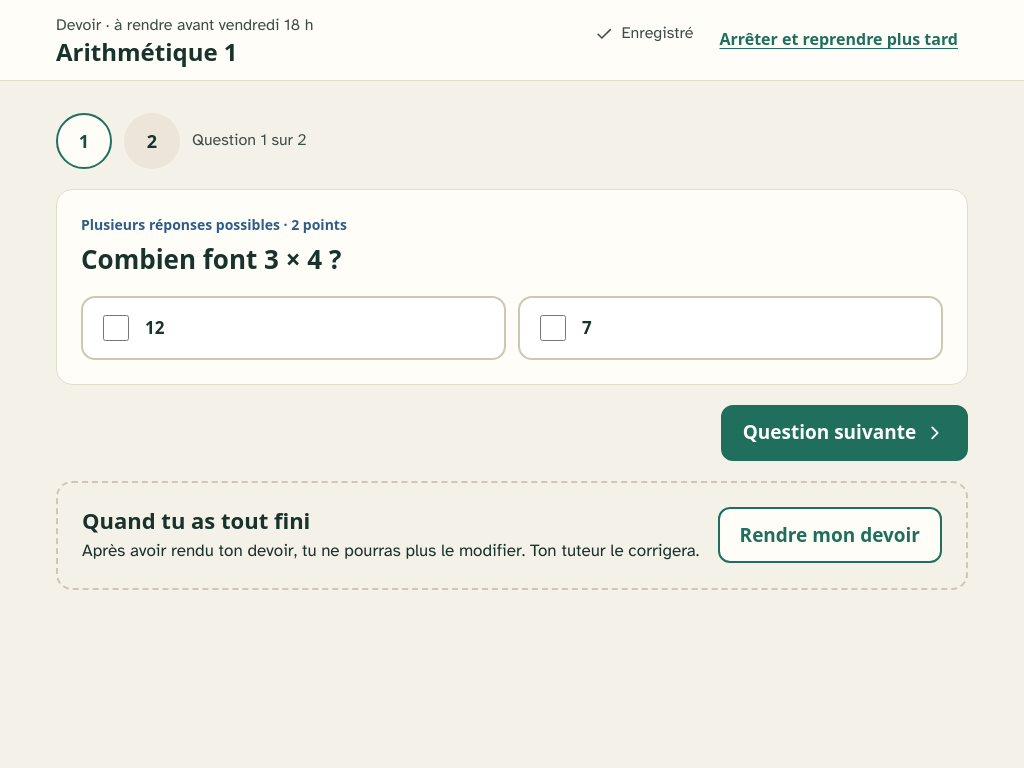
Copie de l'élève (R5) › mode focus : une question à la fois, puis la copie rendue avec les identifiants opaques reçus
Expected: the heading "Combien font 3 × 4 ?" is shown, left=81, top=241, right=341, bottom=277
Expected: the text "Longueur ?" is not shown
Step 1. Click the checkbox labelled "12" → point(116, 328), box left=103, top=315, right=129, bottom=341
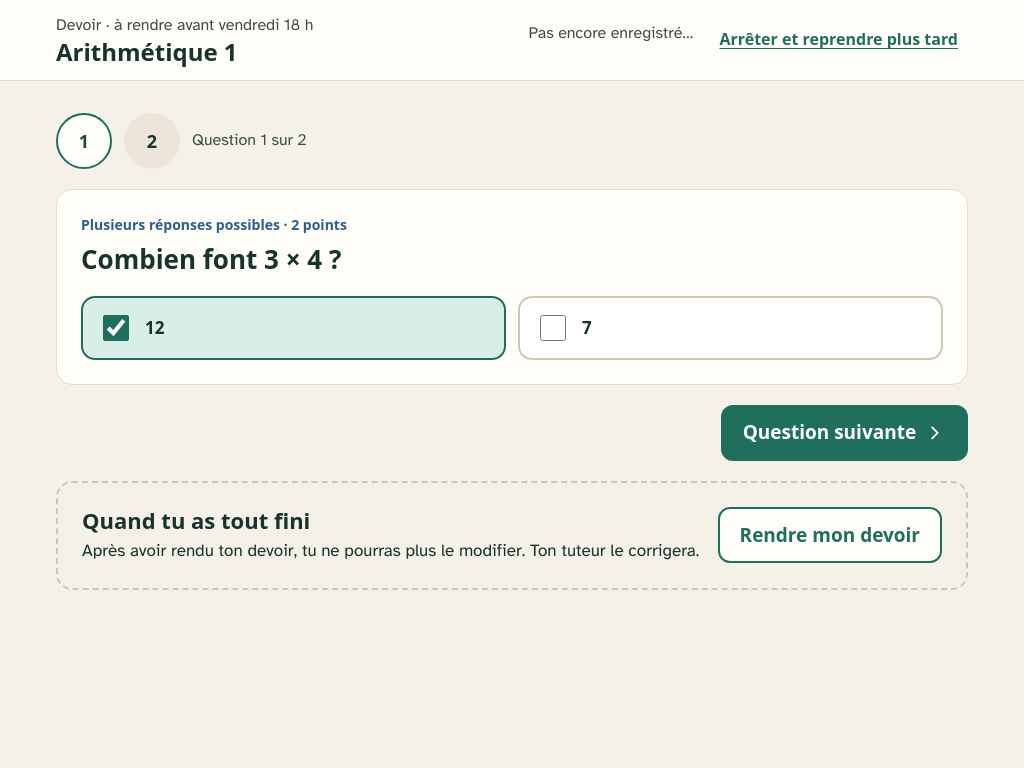
Expected: the button named "Question 1, répondue" is shown, left=56, top=113, right=112, bottom=169
Step 2. Click the button "Question suivante" → point(844, 433), box left=721, top=405, right=968, bottom=461
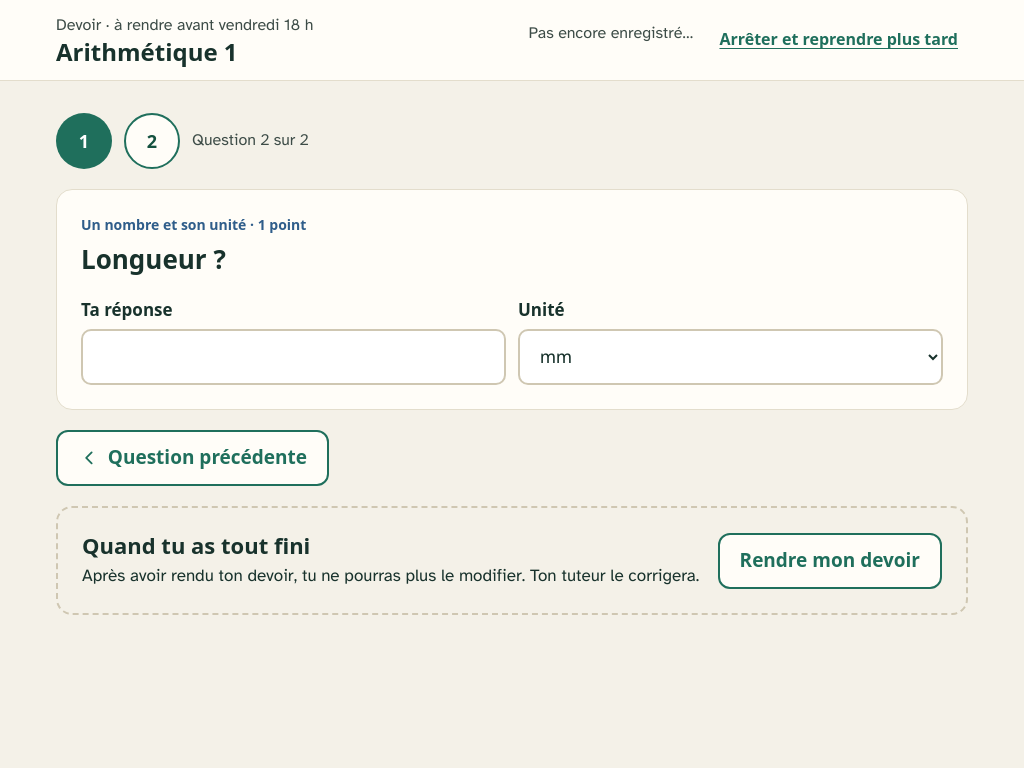
Step 3. Type "12,5" into the field labelled "Ta réponse" → point(294, 357), box left=81, top=329, right=506, bottom=385
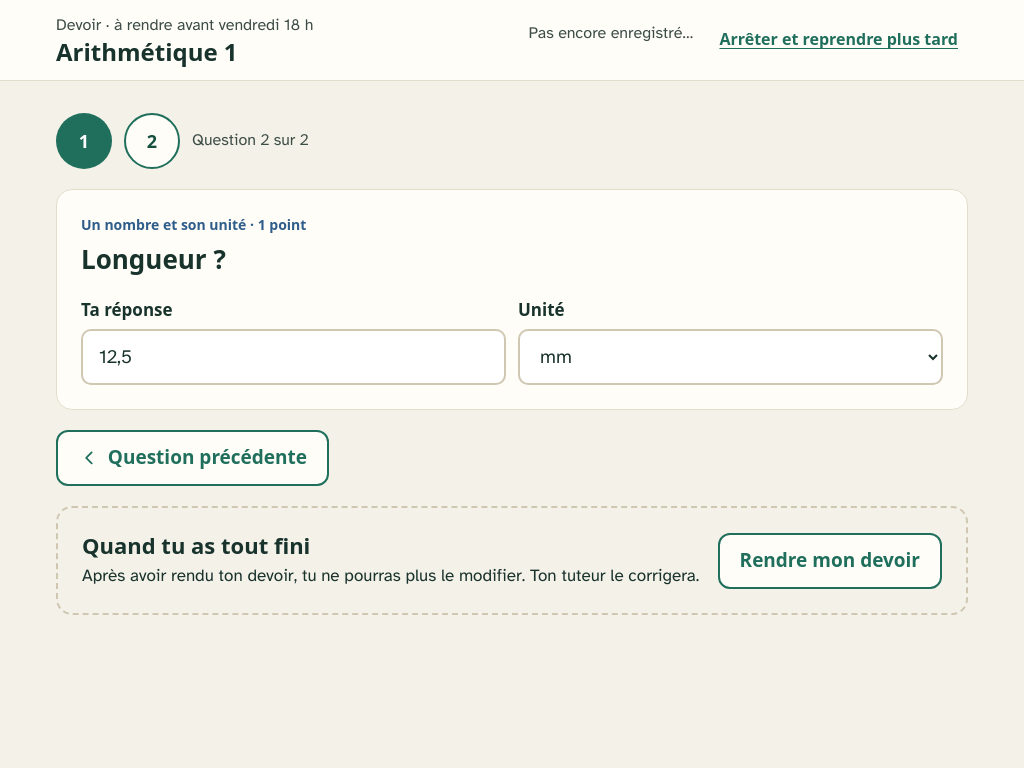
Step 4. Select "cm" in the dropdown labelled "Unité" → point(730, 357), box left=518, top=329, right=943, bottom=385
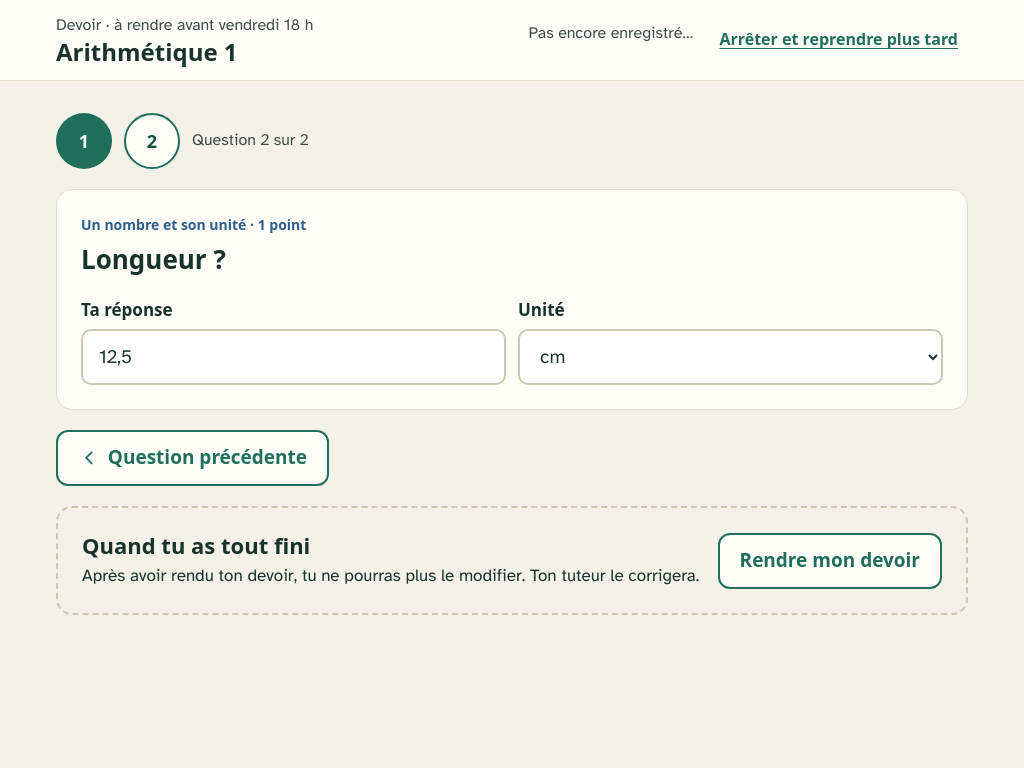
Note: Rendre est définitif (R6) : une confirmation d'abord, rien n'est envoyé avant.
Step 5. Click the button "Rendre mon devoir" → point(830, 560), box left=718, top=532, right=942, bottom=588
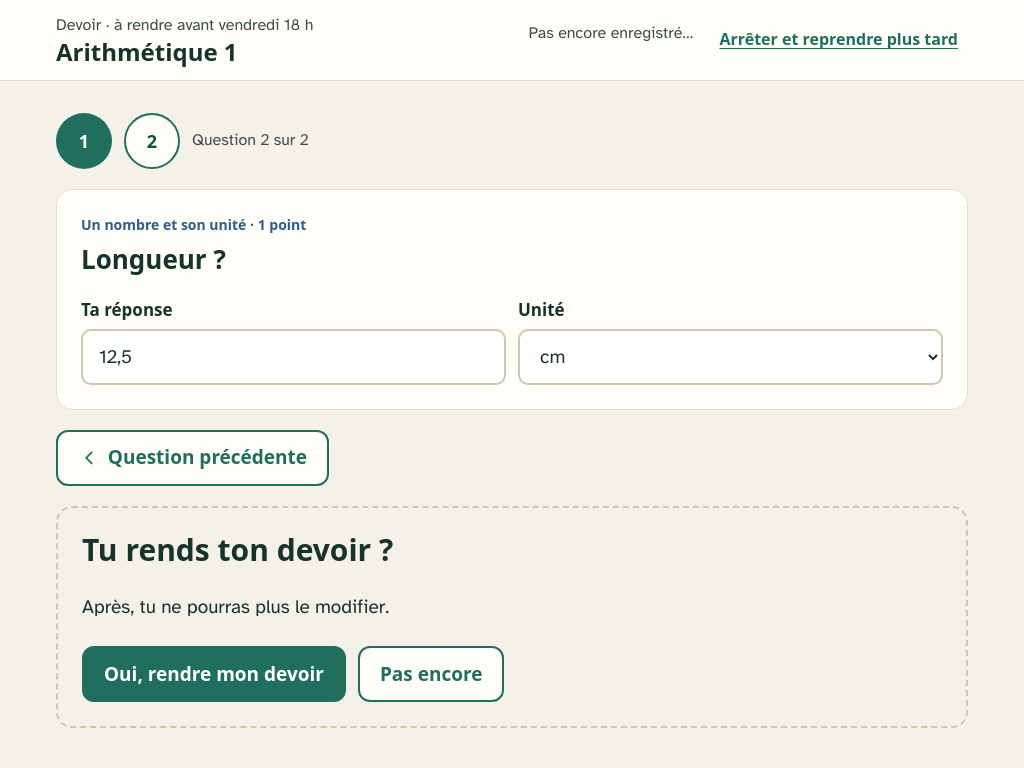
Step 6. Click the button "Oui, rendre mon devoir" → point(214, 674), box left=82, top=646, right=346, bottom=702
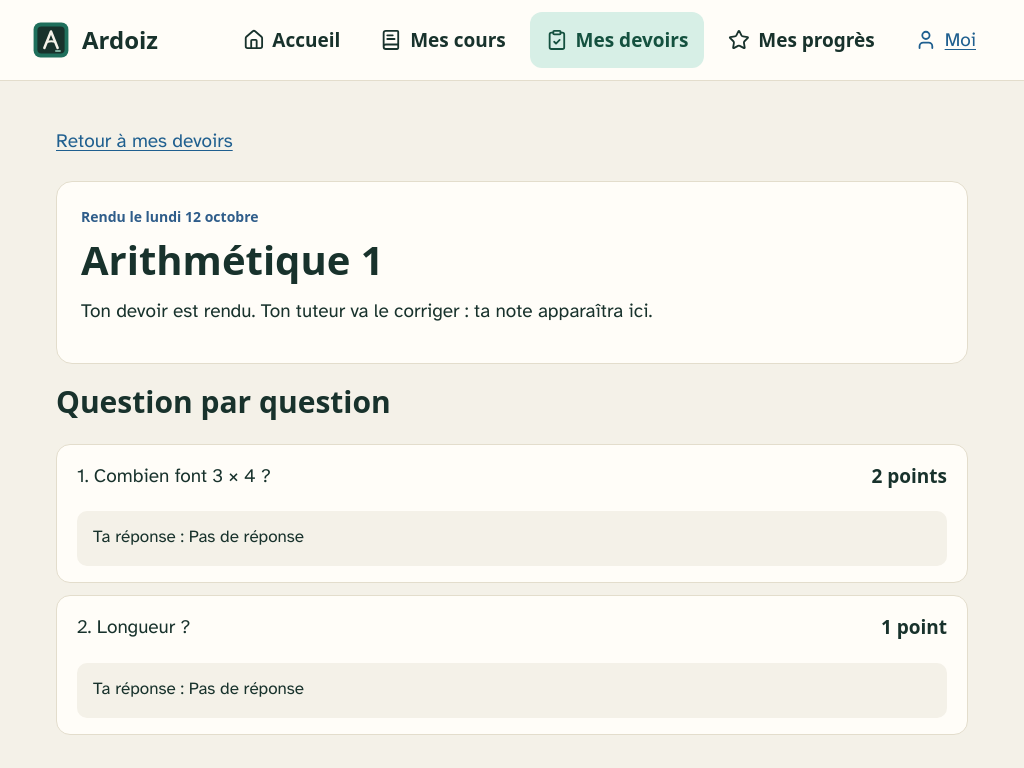
Expected: the text "Ton devoir est rendu. Ton tuteur va le corriger" is shown, left=81, top=299, right=652, bottom=323
Expected: the button "rendre mon devoir" is gone
